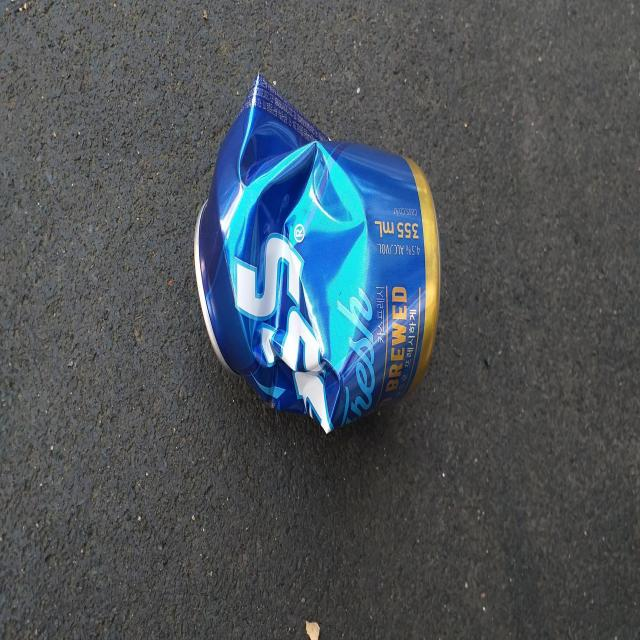can: (194, 72, 440, 432)
